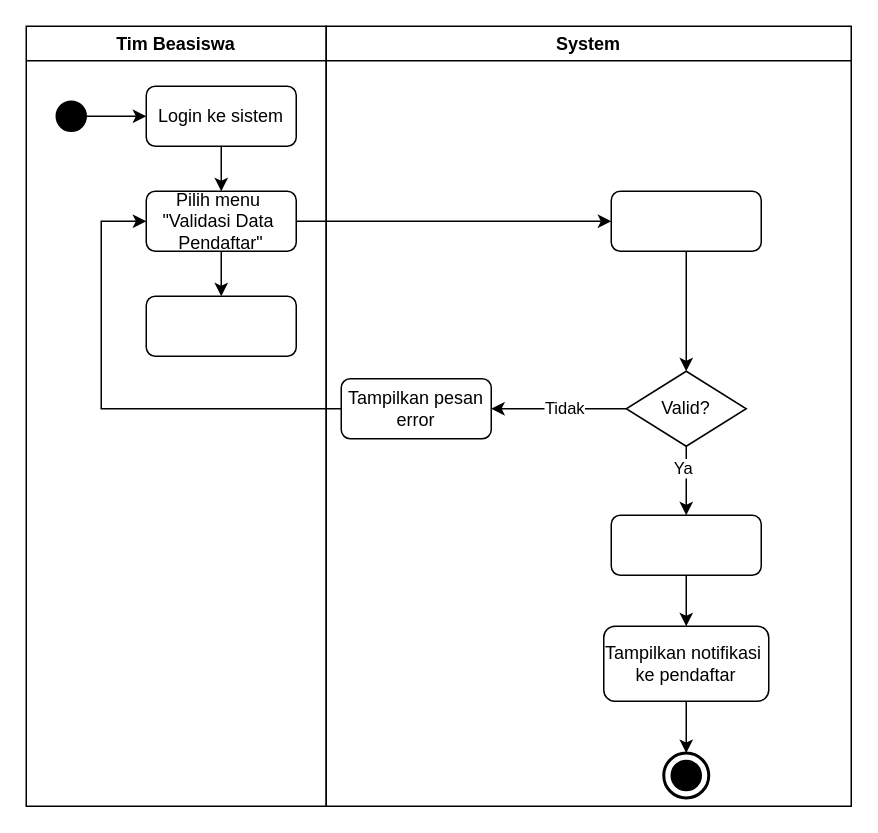
Image size: 878x833. Some labels were removed from this diagram. Each missing label, with the centre of its shape:
Lihat daftar Pendaftar: pixel 220 325
Simpan status terverifikasi: pixel 685 544
Tampilkan detail pendaftar: pixel 685 220
